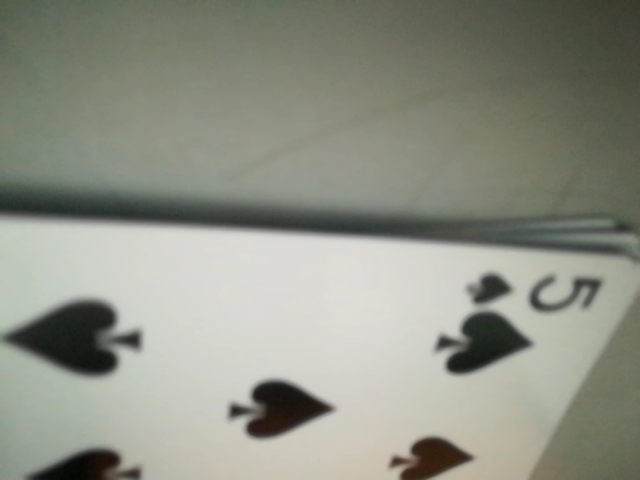ht 5: (459, 259, 618, 314)
